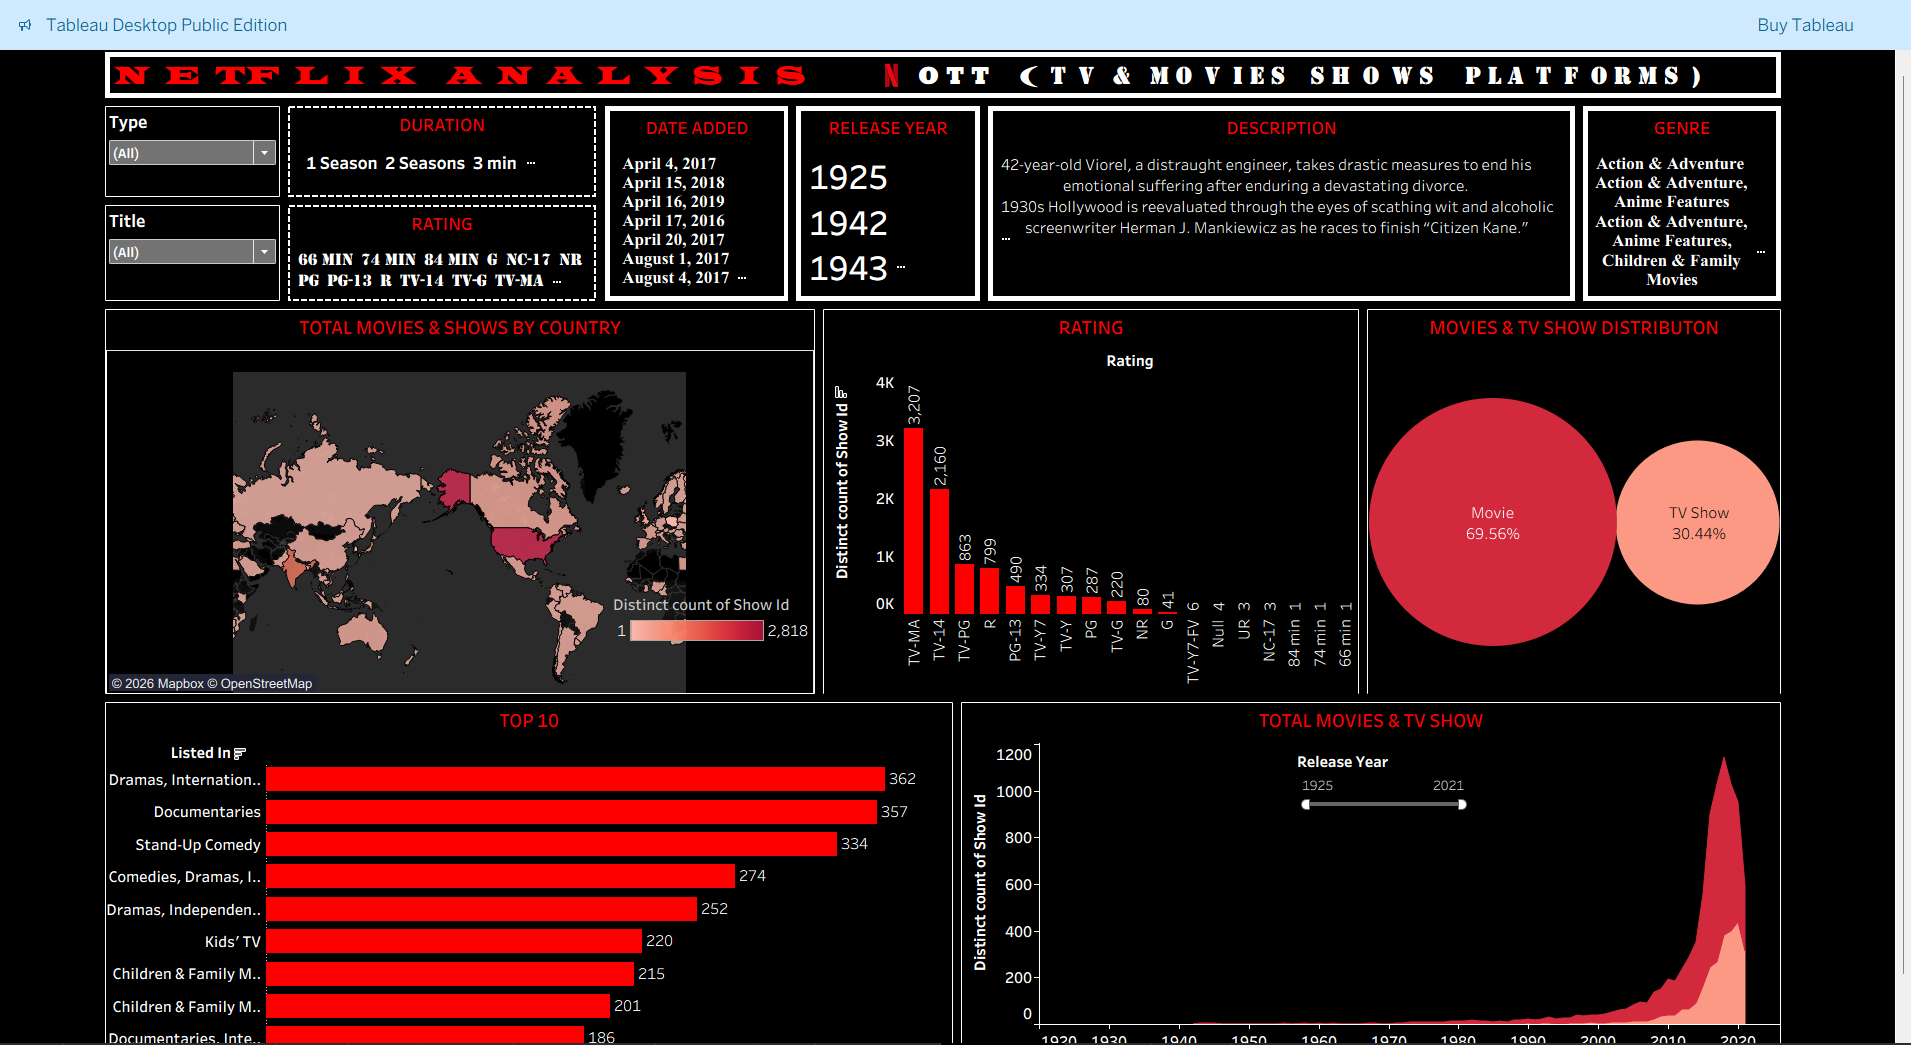

The page's visual inventory and layout, read from the dashboard file:
{"tool":"tableau","page":{"name":"Dashboard 2","canvas":[1000,1000],"units":"permille","ordinal":1},"visuals":[{"type":"text","box":[4.9,7.5,990.2,50.9]},{"type":"image","param":"Image/channels4_profile.jpg","box":[459.9,17.9,41.4,30.2]},{"type":"filter","title":"date added","param":"[federated.1jqilc40bqqia513os45j0joakvn].[none:type:nk]","box":[4.9,58.5,107.8,93.4]},{"type":"worksheet","title":"DURTION","mark":"Automatic","box":[112.7,58.5,185.9,93.4]},{"type":"worksheet","title":"date added","mark":"Automatic","box":[298.6,58.5,112.8,191.5]},{"type":"worksheet","title":"release year","mark":"Automatic","box":[411.4,58.5,112.8,191.5]},{"type":"worksheet","title":"Sheet 6","mark":"Automatic","box":[524.2,58.5,349.7,191.5]},{"type":"worksheet","title":"Genre","mark":"Automatic","box":[873.9,58.5,121.2,191.5]},{"type":"filter","title":"date added","param":"[federated.1jqilc40bqqia513os45j0joakvn].[none:title:nk]","box":[4.9,151.9,107.8,98.1]},{"type":"worksheet","title":"rating","mark":"Automatic","box":[112.7,151.9,185.9,98.1]},{"type":"worksheet","title":"Sheet 2","mark":"Multipolygon","box":[4.9,250,422.2,371.2]},{"type":"worksheet","title":"Sheet 5","mark":"Automatic","rows":["show_id"],"cols":["rating"],"box":[427.1,250,320.2,371.2]},{"type":"worksheet","title":"Sheet 4","mark":"Circle","box":[747.3,250,247.9,371.2]},{"type":"legend","title":"Sheet 2","param":"[federated.1jqilc40bqqia513os45j0joakvn].[ctd:show_id:qk]","box":[305.8,522.6,117.8,64.2]},{"type":"worksheet","title":"Sheet 3","mark":"Automatic","rows":["listed_in"],"cols":["show_id"],"box":[4.9,621.2,503.6,371.2]},{"type":"worksheet","title":"Sheet 1","mark":"Area","rows":["show_id"],"cols":["release_year"],"box":[508.4,621.2,486.7,371.2]},{"type":"filter","title":"Sheet 1","param":"[federated.1jqilc40bqqia513os45j0joakvn].[none:release_year:qk]","box":[708.1,670.8,102.4,56.6]}]}

Visuals, with their boxes on the dashboard's canvas, which has no fixed pixel size, in thousandths of its width and height (x1, y1, x2, y2). These are canvas units, not pixel positions in the 1911x1045 screenshot, which may show the page scaled, cropped or inside an application window:
text: detection(5, 8, 995, 58)
image: detection(460, 18, 501, 48)
"date added" filter: detection(5, 58, 113, 152)
"DURTION" worksheet: detection(113, 58, 299, 152)
"date added" worksheet: detection(299, 58, 411, 250)
"release year" worksheet: detection(411, 58, 524, 250)
"Sheet 6" worksheet: detection(524, 58, 874, 250)
"Genre" worksheet: detection(874, 58, 995, 250)
"date added" filter: detection(5, 152, 113, 250)
"rating" worksheet: detection(113, 152, 299, 250)
"Sheet 2" worksheet (Multipolygon marks): detection(5, 250, 427, 621)
"Sheet 5" worksheet: detection(427, 250, 747, 621)
"Sheet 4" worksheet (Circle marks): detection(747, 250, 995, 621)
"Sheet 2" legend: detection(306, 523, 424, 587)
"Sheet 3" worksheet: detection(5, 621, 508, 992)
"Sheet 1" worksheet (Area marks): detection(508, 621, 995, 992)
"Sheet 1" filter: detection(708, 671, 810, 727)
